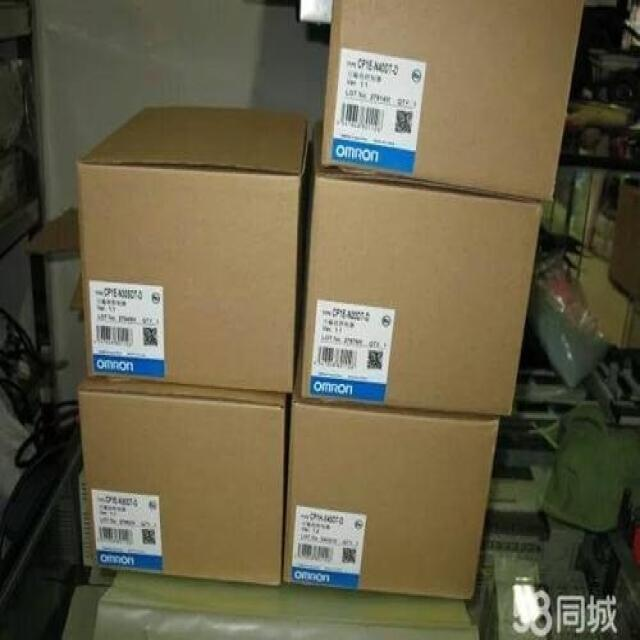box: (297, 123, 542, 418), (75, 106, 314, 394), (324, 1, 587, 203), (78, 371, 287, 586), (283, 396, 499, 599)
